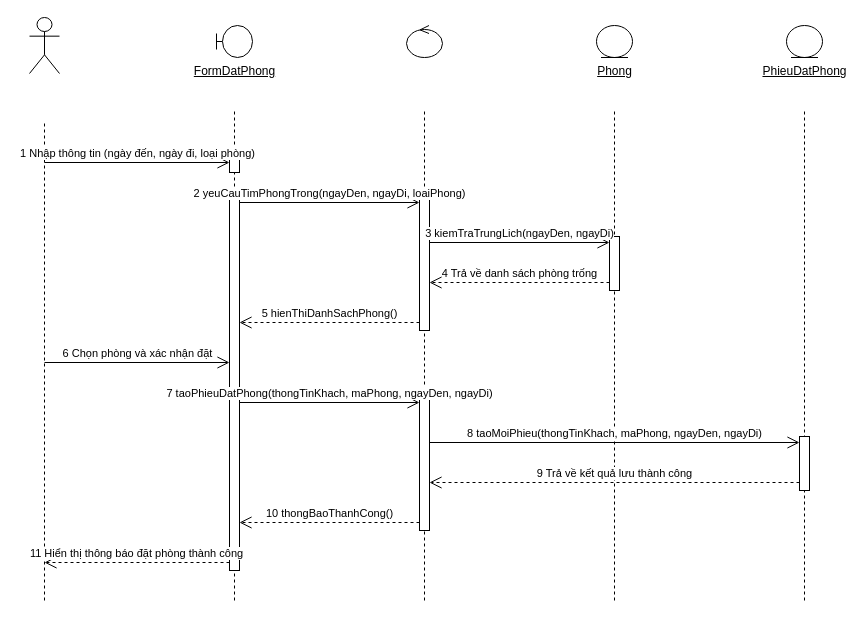
This 864x621 diagram has some shape labels left out. Here are the shapes that lost their labels. From the top down, the centre of each, then its label:
At (x=44, y=45): "Nhân viên".
At (x=424, y=41): "ServiceDatPhong".
